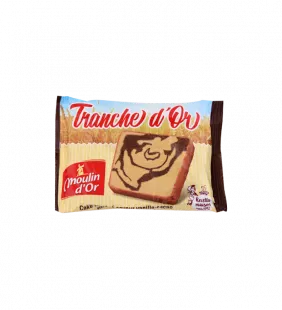MOULIN D'OR: (45, 85, 235, 221)
